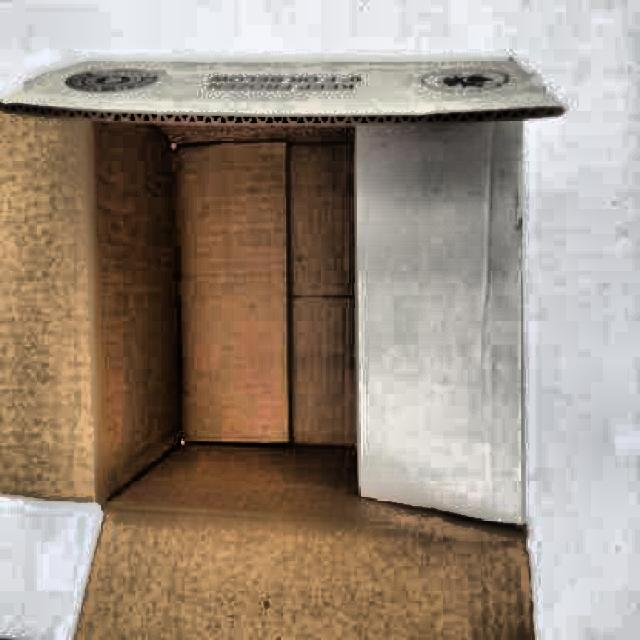Cardbox: (0, 12, 568, 640)
